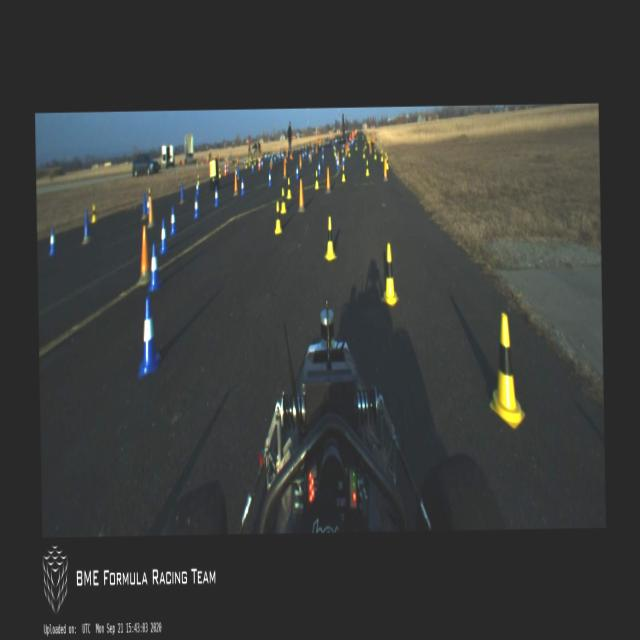blue_cone: (138, 297, 160, 377), (146, 243, 162, 292), (158, 220, 169, 253), (168, 207, 178, 235), (47, 226, 56, 257), (192, 194, 200, 219), (214, 185, 220, 208), (239, 177, 245, 196), (268, 168, 272, 188), (146, 196, 150, 216), (294, 163, 298, 180), (317, 160, 321, 176), (341, 154, 345, 168), (195, 181, 199, 195), (336, 156, 339, 169), (321, 150, 324, 162), (251, 160, 253, 173), (302, 150, 304, 160), (304, 148, 306, 158), (308, 151, 310, 160), (311, 147, 313, 156)
large_orange_cone: (226, 160, 230, 176), (224, 160, 226, 177), (258, 154, 260, 170), (259, 154, 261, 170)
yellow_cone: (488, 314, 524, 428), (379, 241, 398, 306), (322, 215, 337, 260), (273, 198, 282, 234), (280, 187, 286, 214), (285, 177, 291, 199), (314, 170, 320, 190), (340, 164, 346, 183), (90, 204, 96, 222), (365, 157, 369, 176), (379, 148, 384, 162), (148, 189, 152, 202), (217, 167, 221, 178), (362, 146, 365, 160), (386, 156, 388, 170), (374, 147, 376, 160), (354, 141, 356, 151), (334, 146, 336, 156), (348, 148, 350, 156), (341, 144, 343, 152)
